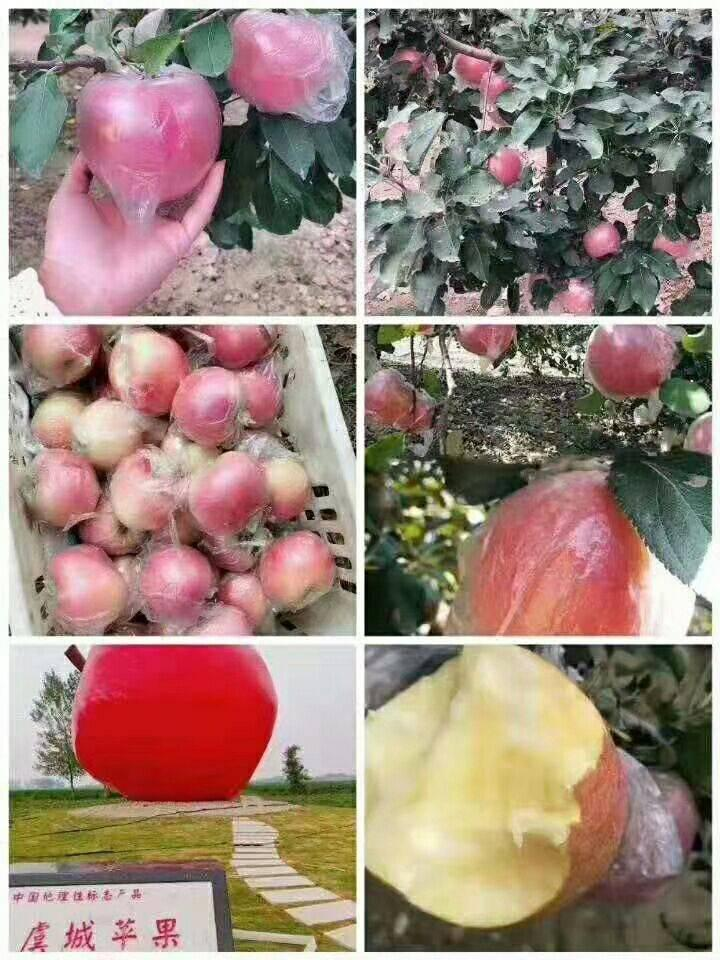apple: (363, 645, 633, 933), (454, 462, 701, 635), (75, 67, 219, 200), (228, 10, 334, 119), (37, 546, 129, 634), (582, 322, 676, 399), (186, 450, 266, 538), (109, 329, 188, 417), (259, 528, 335, 615), (75, 398, 164, 472), (109, 451, 181, 531), (22, 454, 100, 527), (172, 367, 244, 445), (364, 368, 438, 441), (142, 546, 211, 624), (23, 324, 100, 383), (485, 147, 522, 187), (583, 220, 620, 259)
